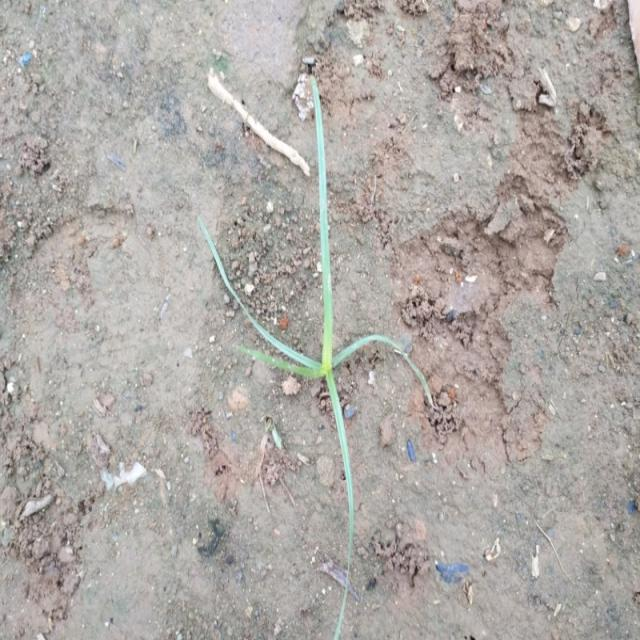sedge: (210, 58, 438, 602)
